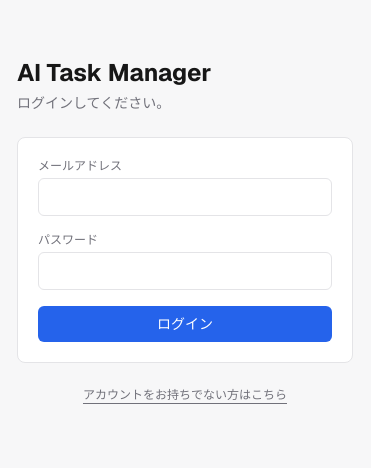
Scenario: AuthForm › 登録画面に切り替えると名前の入力が出る
This screenshot has width=371, height=468.
Click the button "アカウントをお持ちでない方はこちら".
click(185, 395)  # box [17,387,353,403]
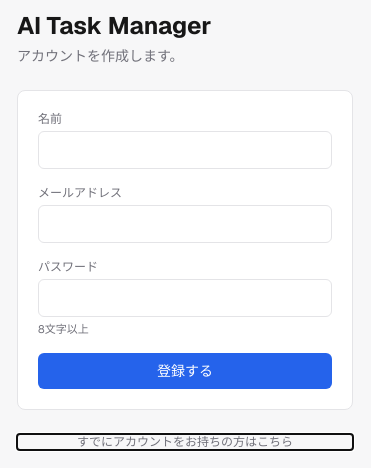
Expected: the field labelled "名前" is shown, [38,131,332,169]
Expected: the button "登録する" is shown, [38,353,332,389]
